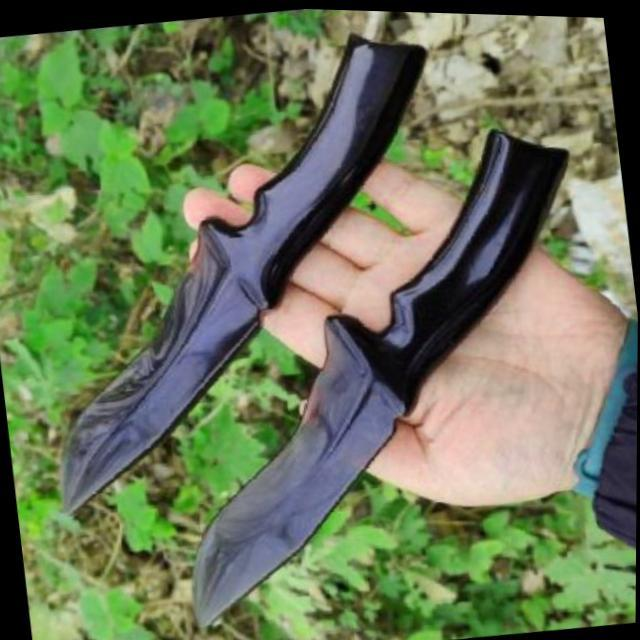weapon: (136, 105, 624, 639), (7, 11, 480, 528)
